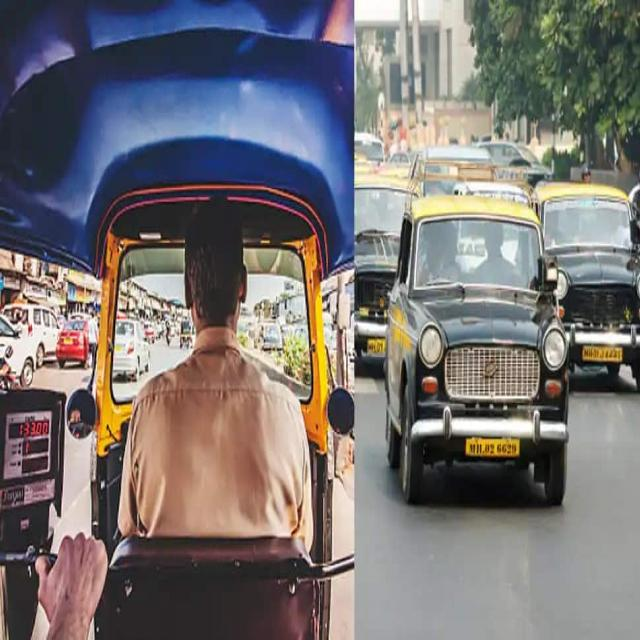car: (389, 188, 571, 499), (539, 178, 637, 390), (354, 168, 416, 366)
